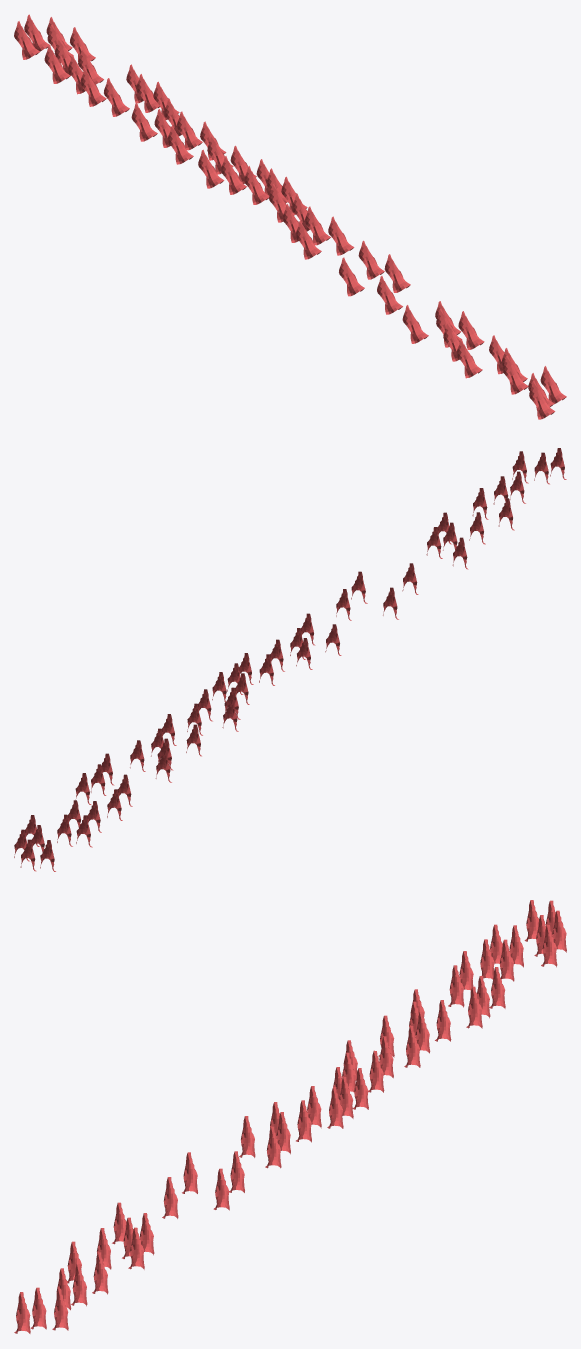
File: manyFlames.fbx
3 views of the same model, one above another, from view 1: azimuth 30°, elevation 25°; view 2: azimuth 150°, elevation 25°; view 3: azimuth 330°, elevation 25° (orthographic). The views are drawn at different scales.
Bounding box in the file's own units: 217 × 116 × 3180.
